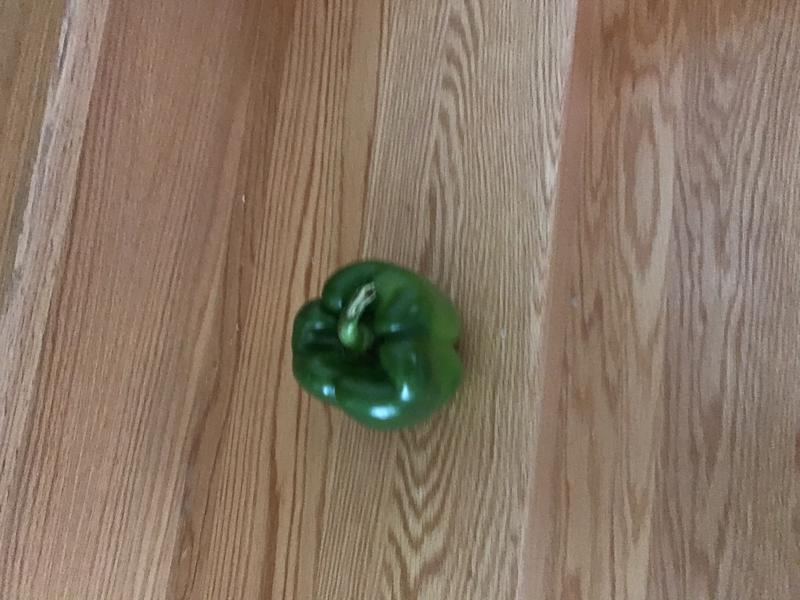green_pepper: (288, 254, 473, 441)
